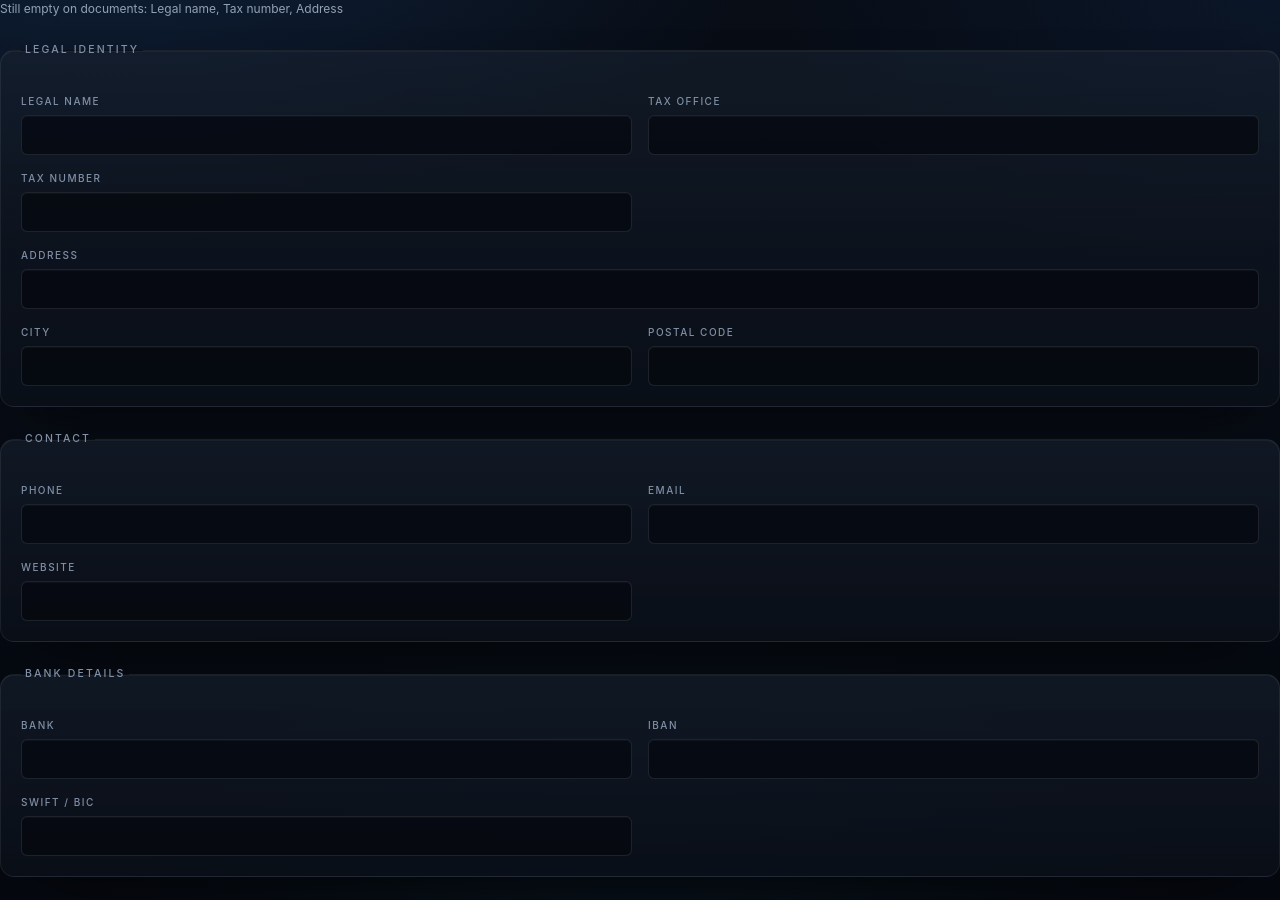
Test case: company profile form › explains a concurrent edit and keeps what was typed
Type "Ankara" into the field labelled "City". click: point(326, 366)
box: [21,346,632,386]
(page scrolled)
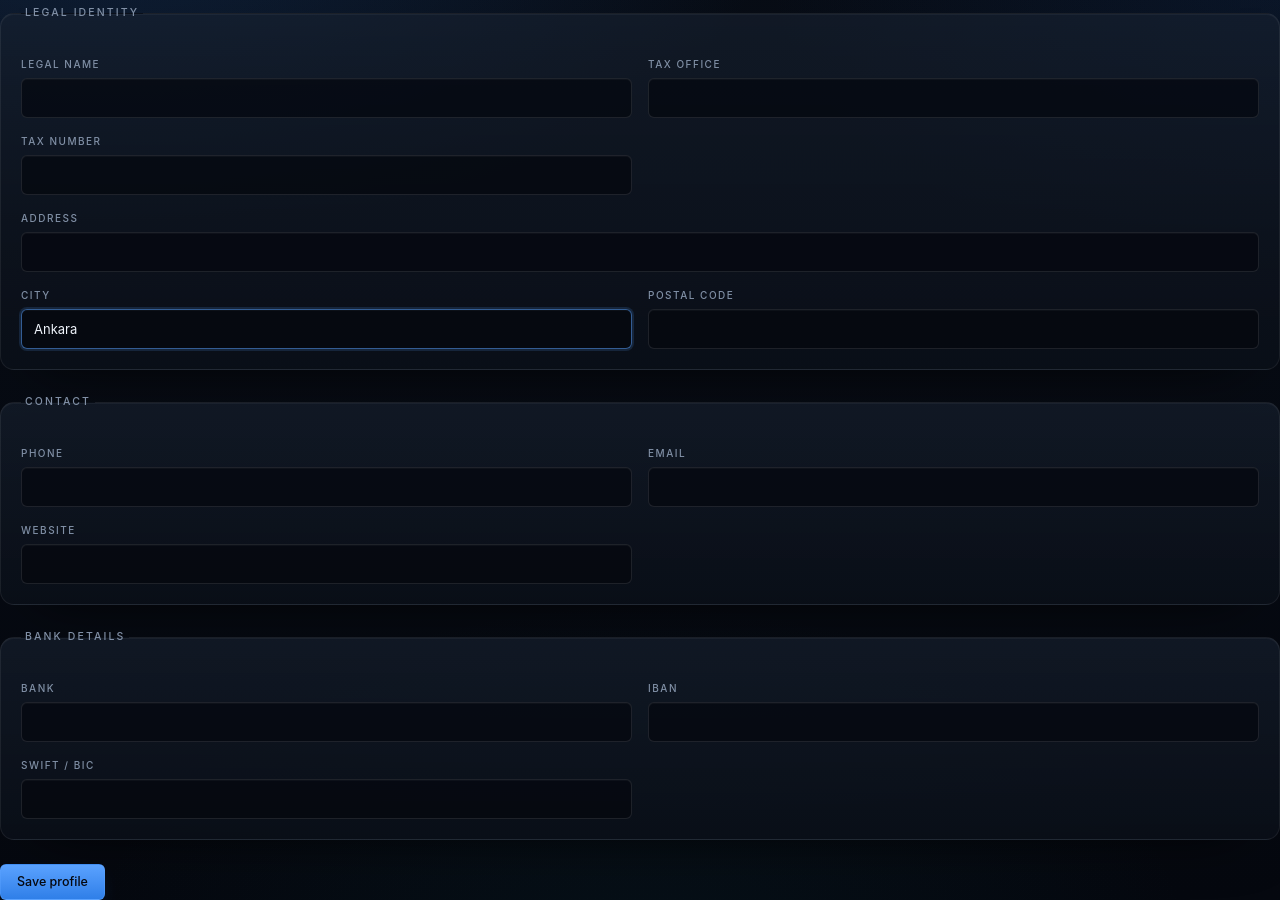
Click the button "Save profile". click: point(52, 882)
box: [0,864,105,899]
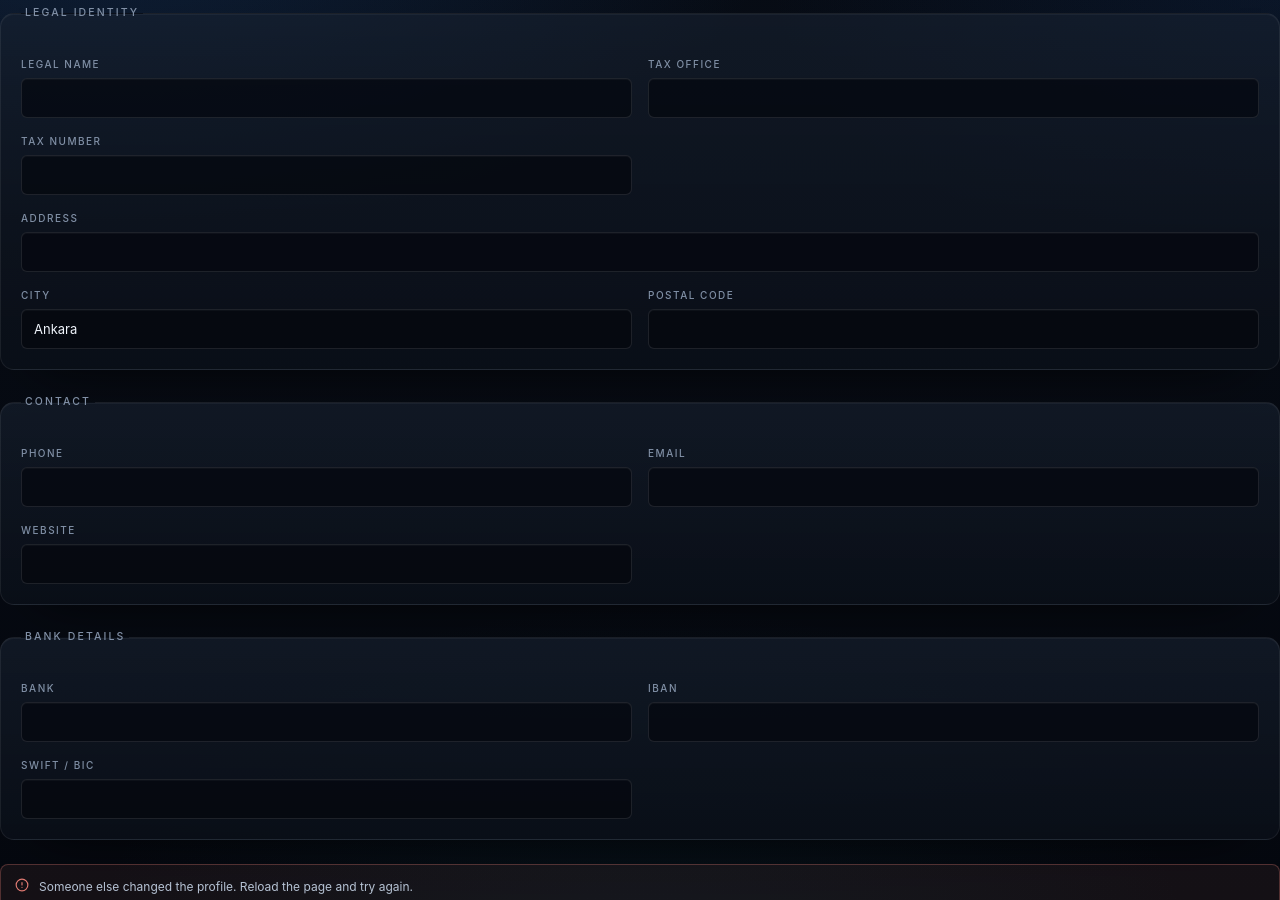
Expected: the message shows "Someone else changed the profile", [39,879,413,894]
